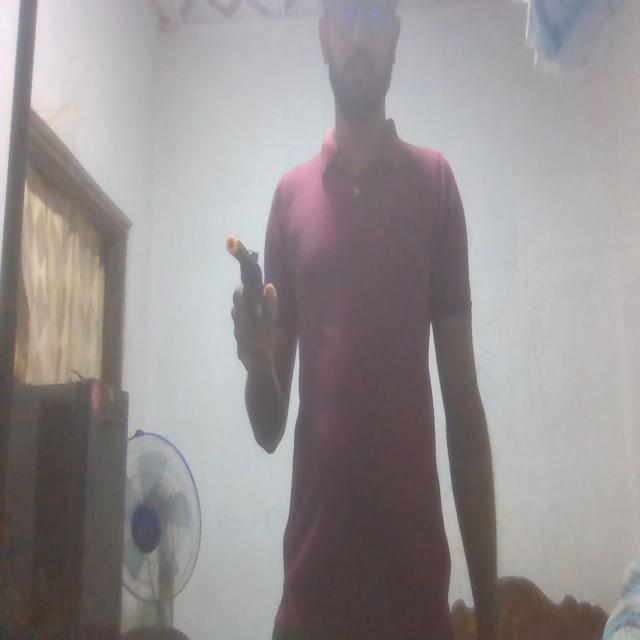Gun_Holder: (219, 237, 270, 368)
Person: (230, 0, 500, 640)
